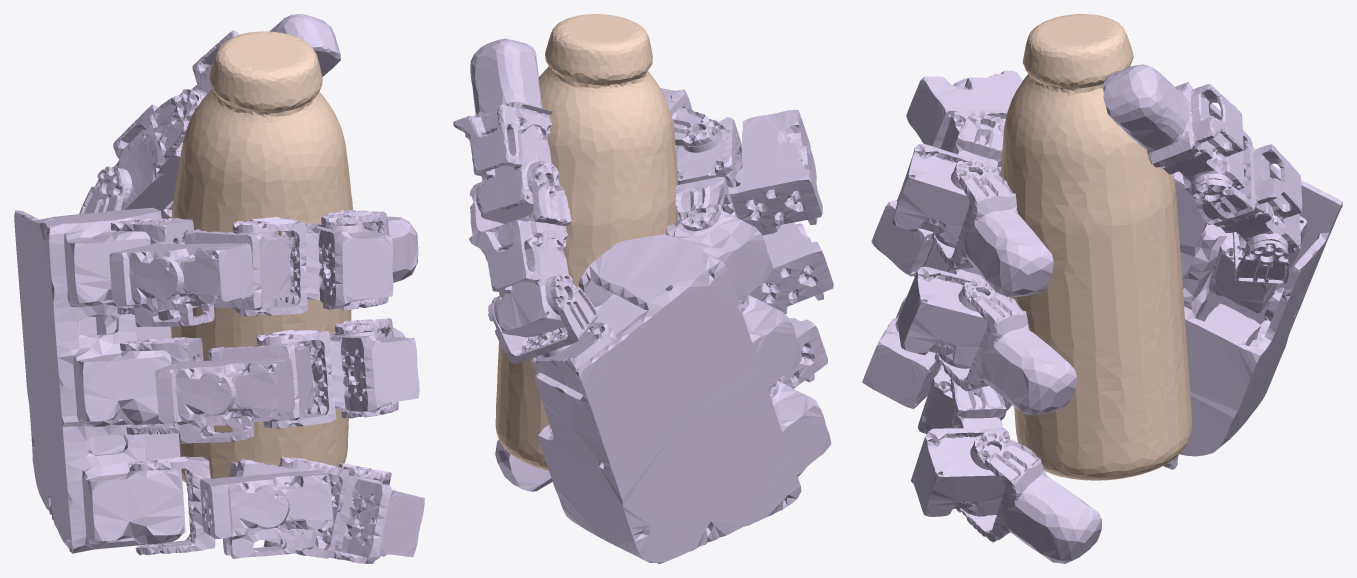
Rendered from 13ede7f1411b61-closed.glb.
The picture shows the model from 3 angles, left to right: view 1: azimuth 30°, elevation 25°; view 2: azimuth 150°, elevation 25°; view 3: azimuth 270°, elevation 25°; orthographic projection. The views are drawn at different scales.
Visible parts, largest first — view 1: LEAP_hand, world; view 2: LEAP_hand, world; view 3: LEAP_hand, world.
Part boxes in pixels (x1=…): LEAP_hand: x1=14, y1=14, x2=424, y2=563; world: x1=170, y1=31, x2=352, y2=483; LEAP_hand: x1=453, y1=38, x2=833, y2=563; world: x1=495, y1=14, x2=678, y2=470; LEAP_hand: x1=862, y1=64, x2=1342, y2=563; world: x1=1000, y1=14, x2=1192, y2=480.
Size of the model in its own units: 0.1422 by 0.2096 by 0.1855.
